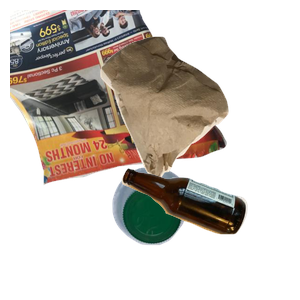glass: (119, 166, 300, 300)
paper: (10, 10, 230, 188)
plastic: (110, 164, 300, 300)
trash: (98, 34, 300, 211)
